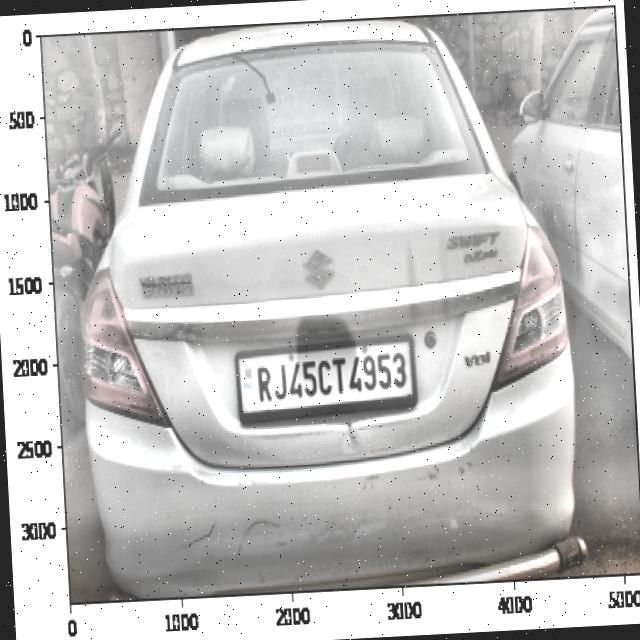license_plate: (250, 346, 412, 408)
